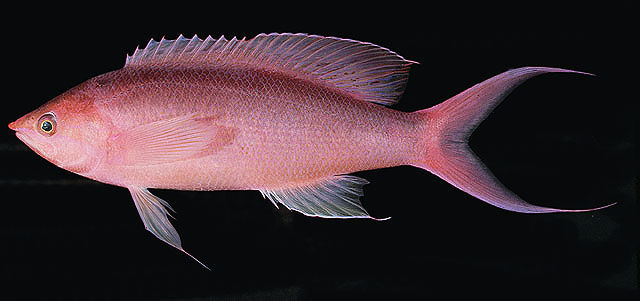fish: (8, 33, 618, 271)
